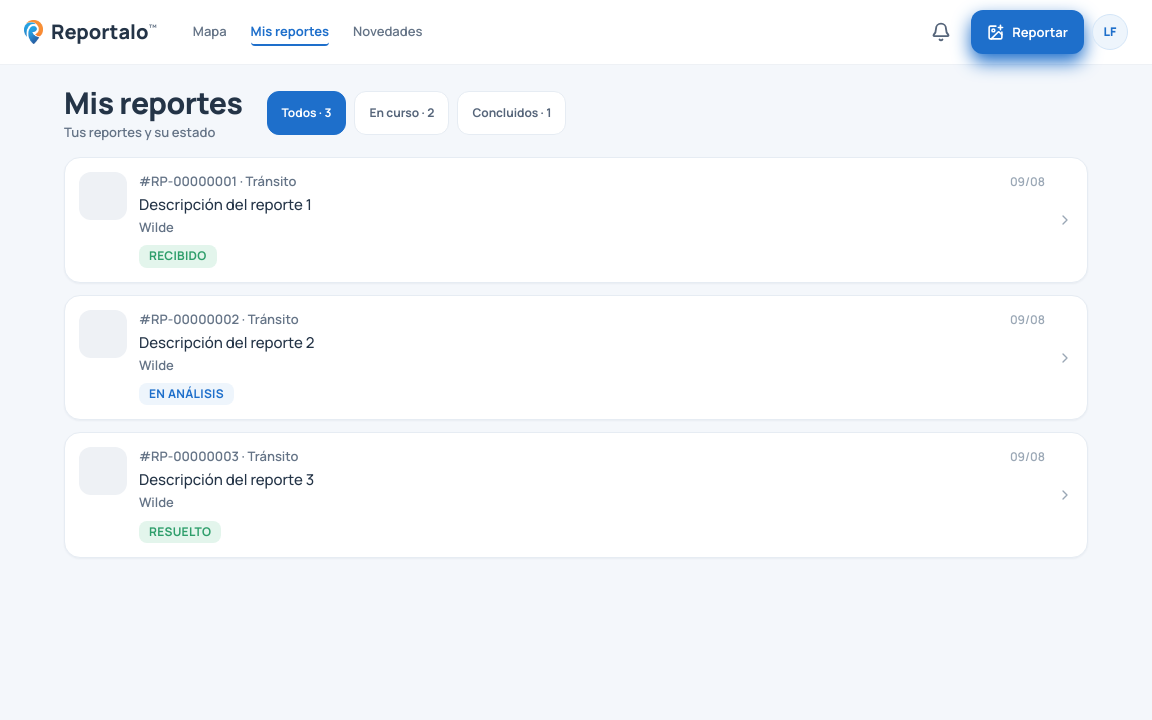
REP-3553: Mis reportes › UT-V3553-03: los filtros cuentan y separan «En curso» de «Concluidos» (REP-3847)
Expected: the button "Todos · 3" is shown, [266,91,346,135]
Expected: the button "En curso · 2" is shown, [354,91,449,135]
Click the button "Concluidos · 1".
click(512, 113)  # box [457,91,566,135]
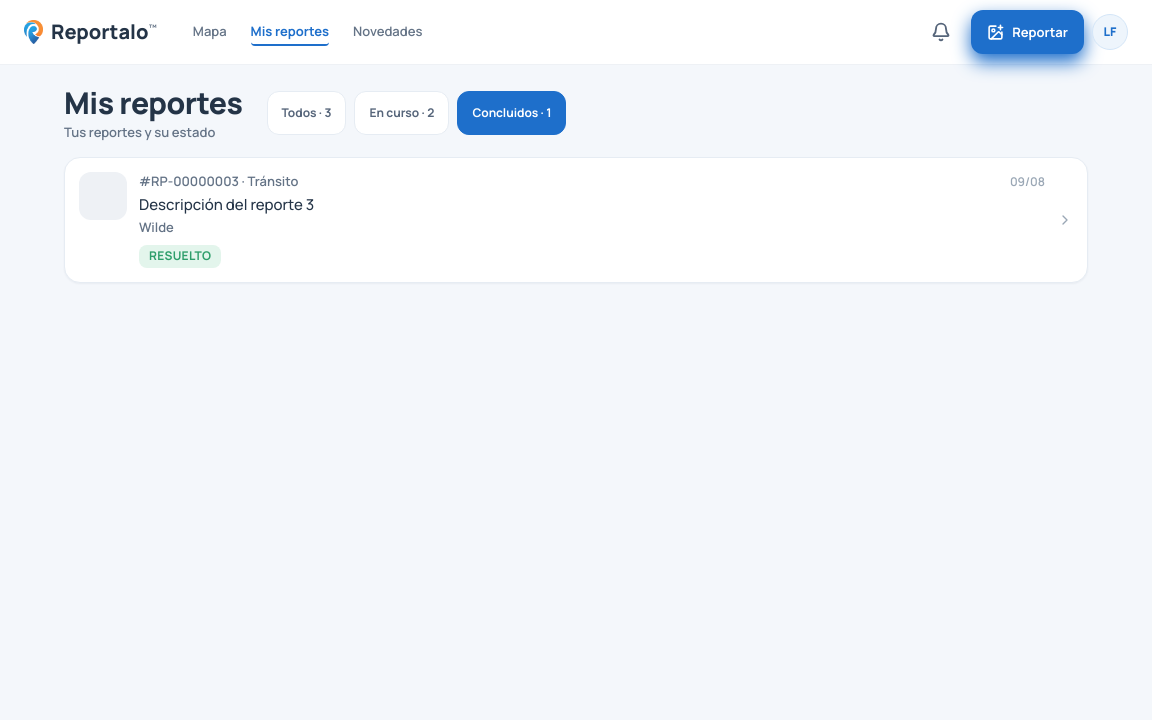
Result: the number of buttons with test id "report-row" is 1 at [64,157,1088,283]
Click the button "En curso · 2".
click(402, 113)  # box [354,91,449,135]
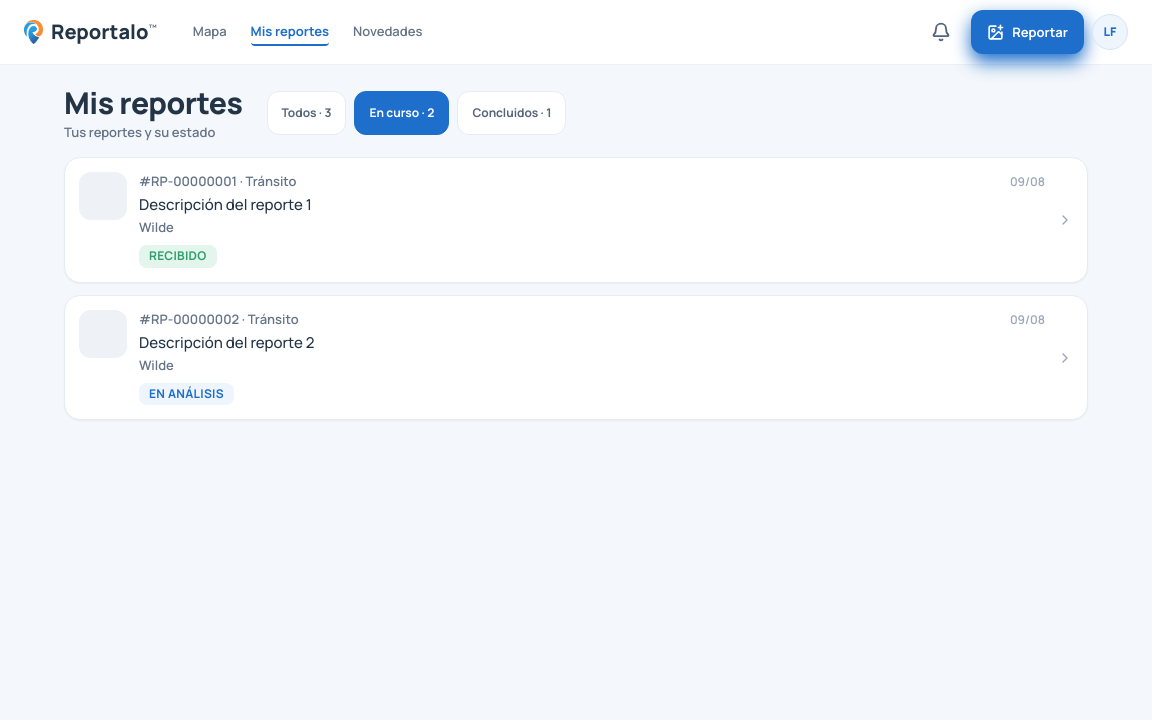
Result: the number of buttons with test id "report-row" is 2 at [64,157,1088,283]; [64,295,1088,420]
